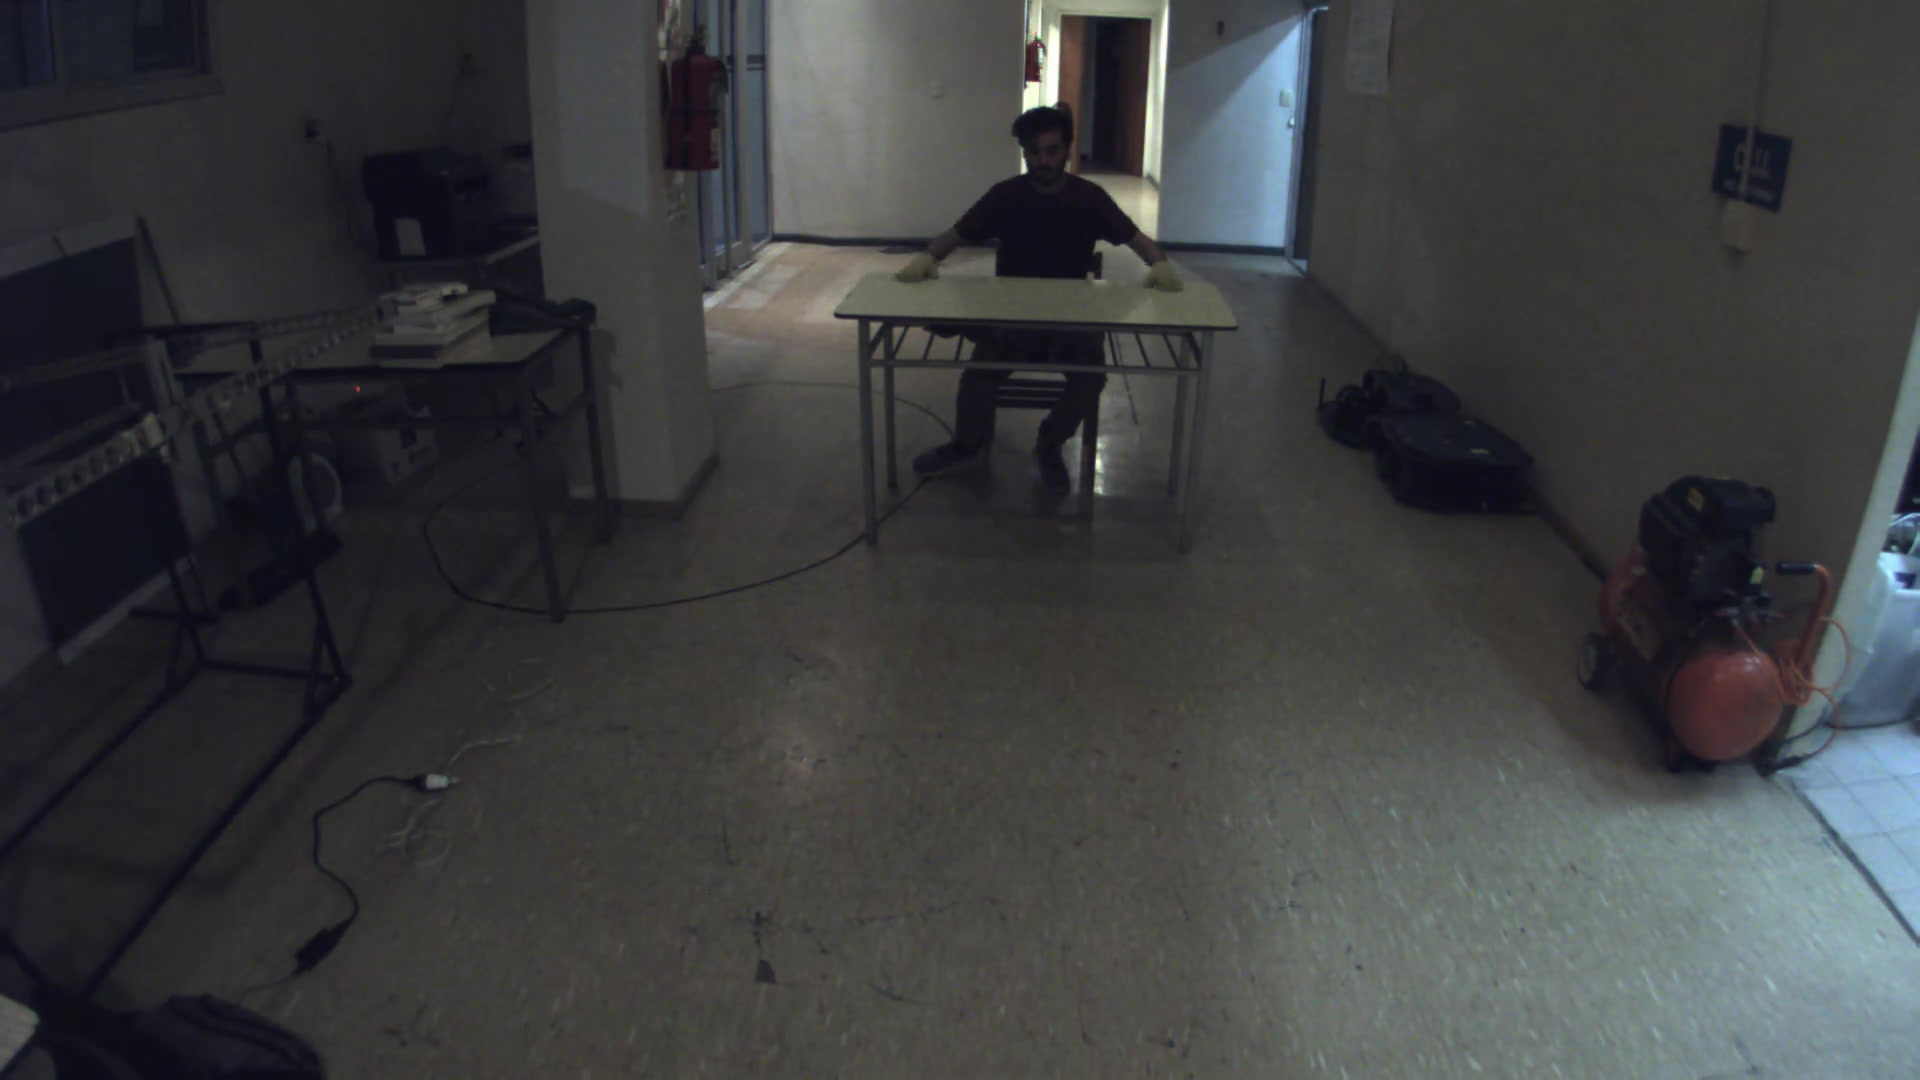hand: (1126, 253, 1207, 298), (882, 251, 949, 290)
